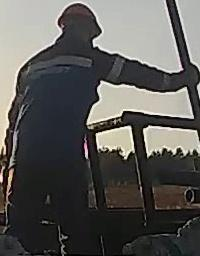gloves: (161, 63, 200, 94)
helmet: (56, 3, 103, 40)
vest: (14, 43, 125, 150)
